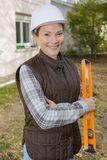helmet: (30, 5, 67, 32)
no_wear: (18, 60, 81, 152)
